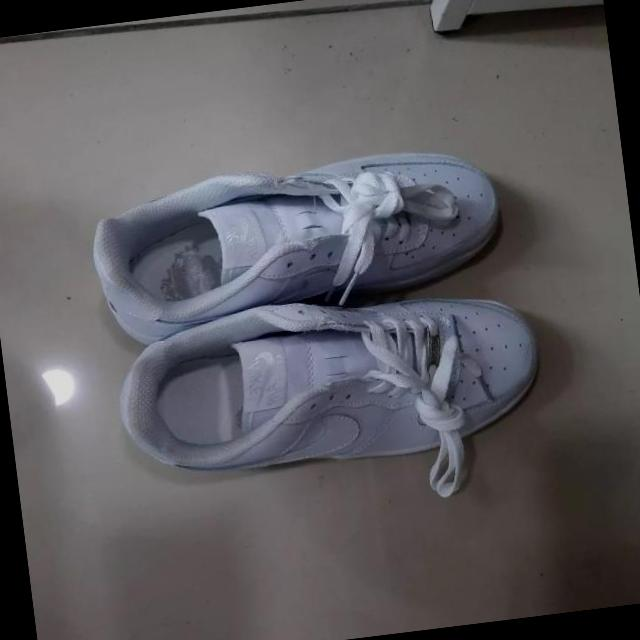nike_fake_airforce: (105, 264, 546, 497), (63, 132, 521, 352)
